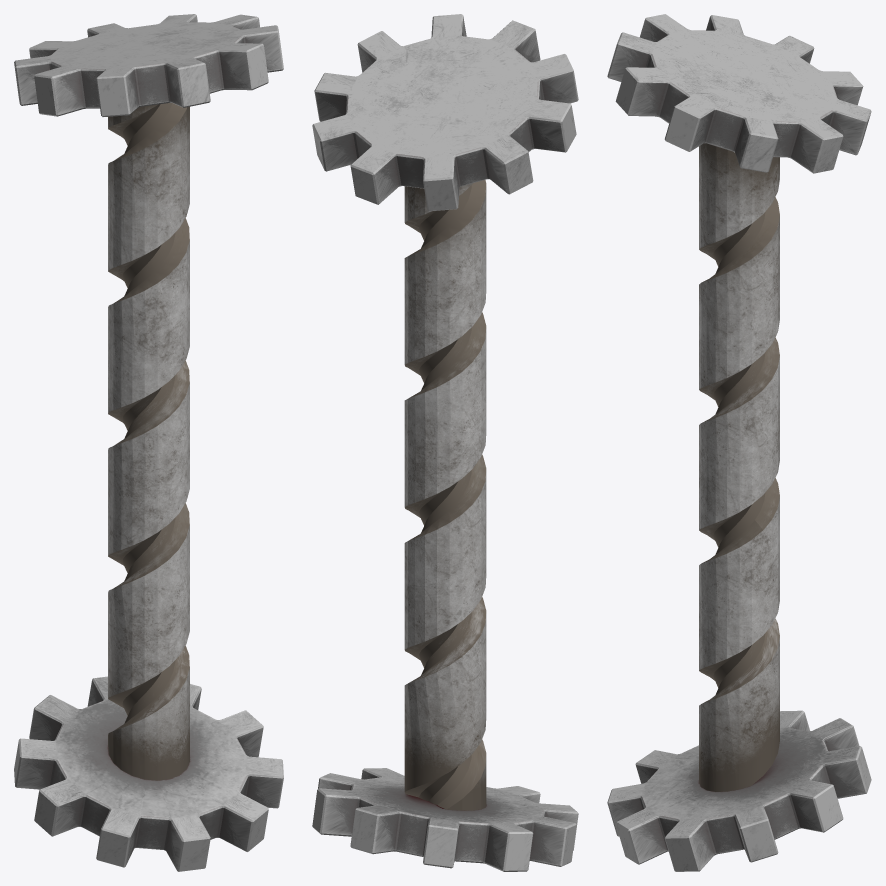
File: oresen_all.fbx
3 views of the same model, side by side, from view 1: azimuth 30°, elevation 25°; view 2: azimuth 150°, elevation 25°; view 3: azimuth 270°, elevation 25° (orthographic).
Parts seen in each view (by area): view 1: oresenn, oresenn_gear_02, oresenn_gear_01; view 2: oresenn, oresenn_gear_01, oresenn_gear_02; view 3: oresenn, oresenn_gear_01, oresenn_gear_02.
Part boxes in pixels (x1,y1,x2,y2): oresenn: (108, 103, 189, 780); oresenn_gear_02: (14, 676, 283, 871); oresenn_gear_01: (14, 14, 283, 116); oresenn: (404, 180, 486, 810); oresenn_gear_01: (312, 14, 578, 211); oresenn_gear_02: (312, 768, 578, 871); oresenn: (699, 143, 779, 791); oresenn_gear_01: (607, 14, 871, 173); oresenn_gear_02: (607, 710, 871, 871).
Size of the model in its own units: 0.6507 by 2.16 by 0.6525.
